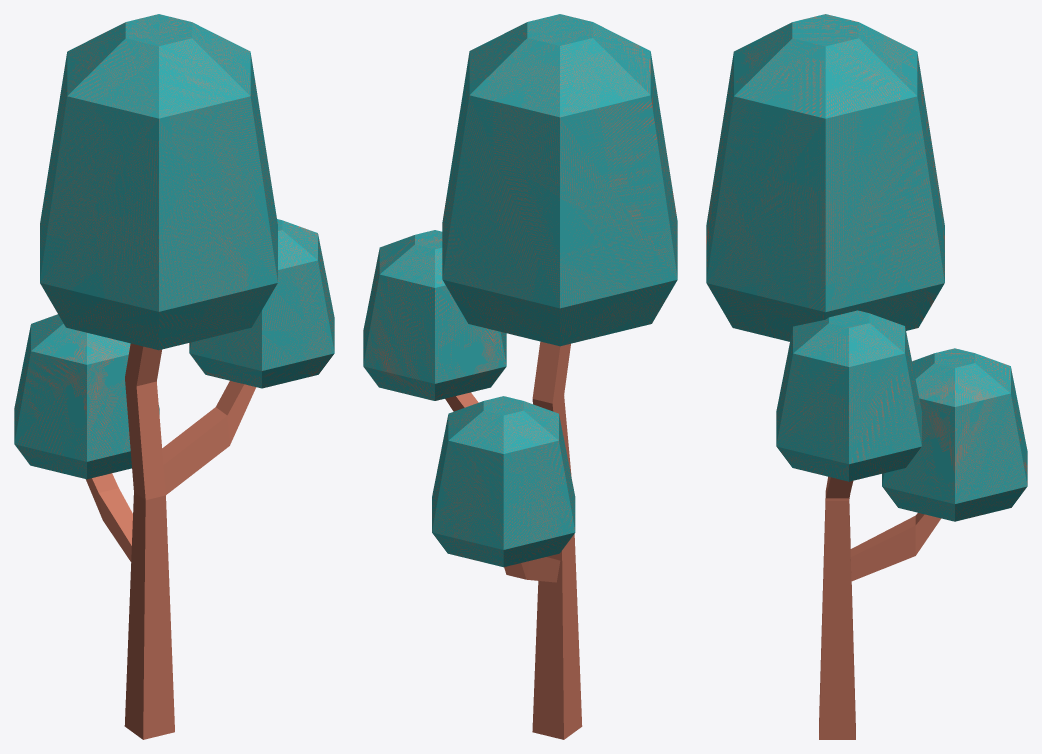
The model's file is tree_thin_dark.dae.
3 renders of one model, left to right at view 1: azimuth 30°, elevation 25°; view 2: azimuth 150°, elevation 25°; view 3: azimuth 270°, elevation 25°, orthographic.
Visible parts, largest first — view 1: tree_thin_dark; view 2: tree_thin_dark; view 3: tree_thin_dark.
Boxes of the visible parts, x1,y1,x2,y2 form: tree_thin_dark: (14, 14, 334, 739); tree_thin_dark: (363, 14, 677, 739); tree_thin_dark: (706, 14, 1027, 739).
Bounding box in the file's own units: 0.6804 × 1.49 × 0.6165.
